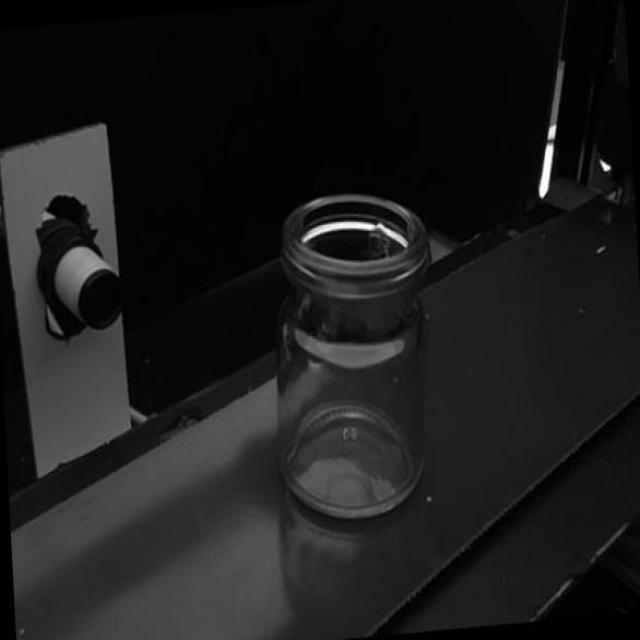defect: (368, 216, 390, 236)
glass: (261, 182, 443, 530)
